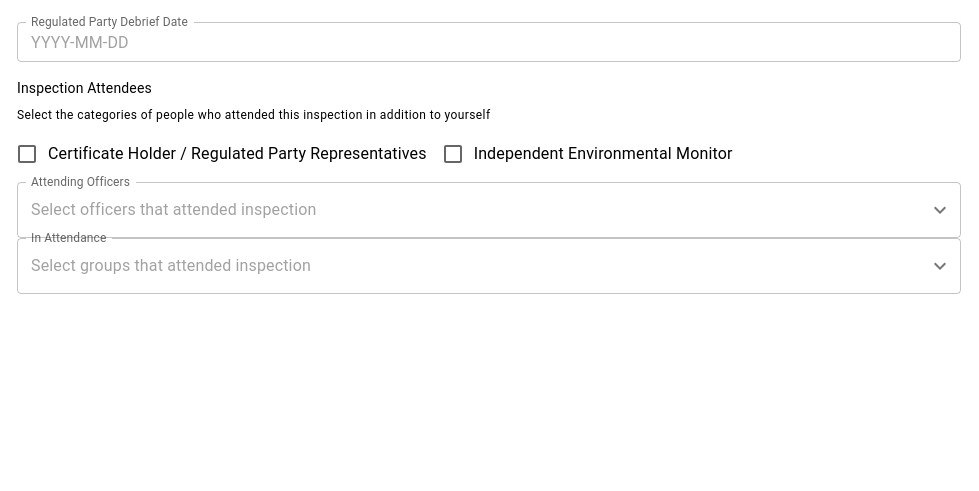
Test case: InspectionFormRight Component › allows selecting multiple attendees in the 'In Attendance' field
Click the dropdown named "inAttendance".
click(474, 266)  # box [26,247,922,285]
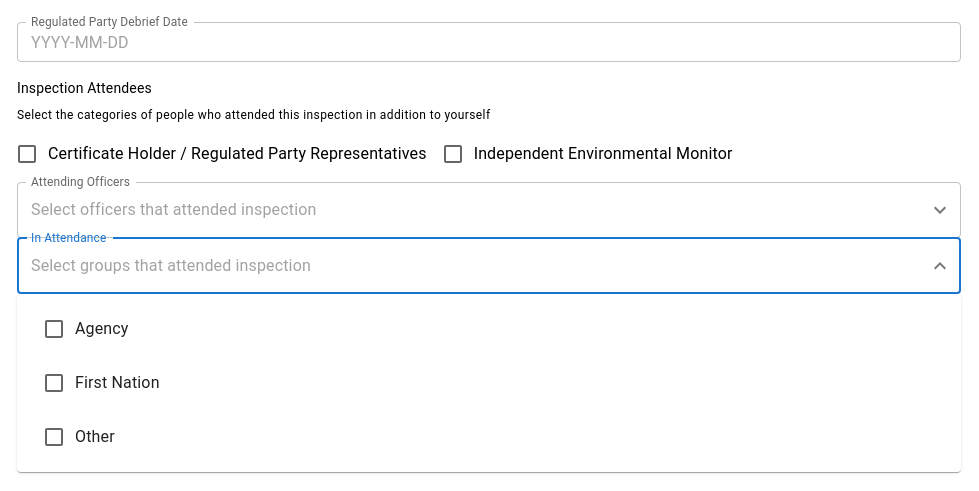
Click the text "Agency".
click(86, 329)  # box [42,317,129,341]
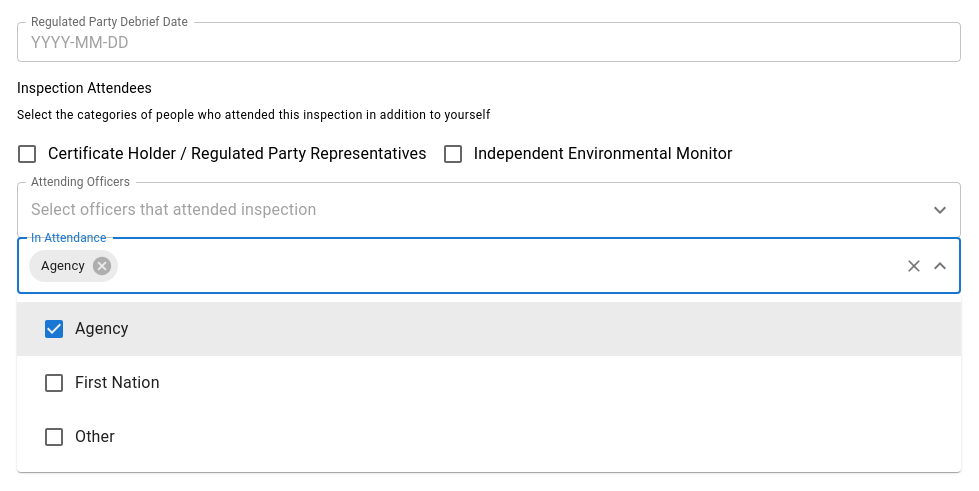
Click the text "First Nation".
click(101, 383)  # box [42,371,160,395]
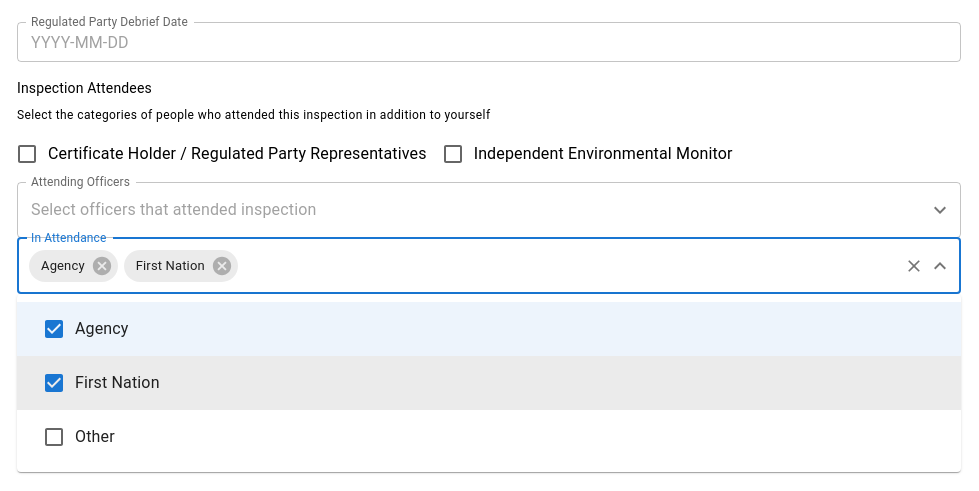
Now the button "Agency" is shown, box [29,250,118,282]
Now the button "First Nation" is shown, box [124,250,238,282]
